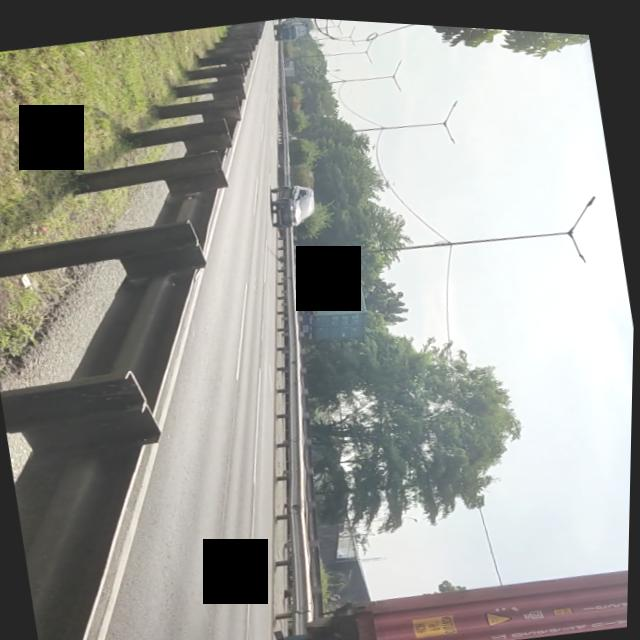Golongan I: (261, 173, 325, 231)
